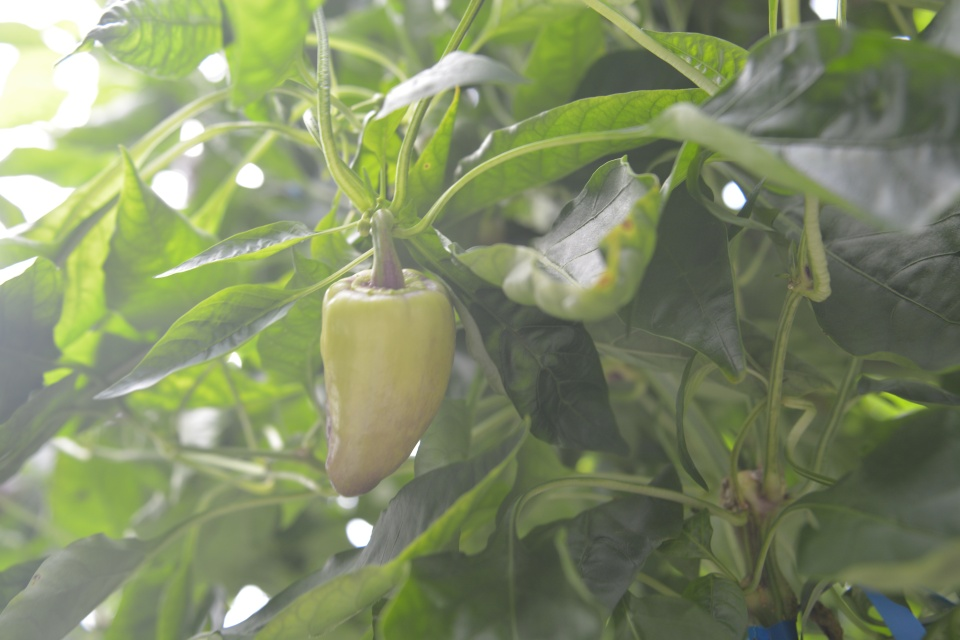immature: (315, 264, 460, 501)
